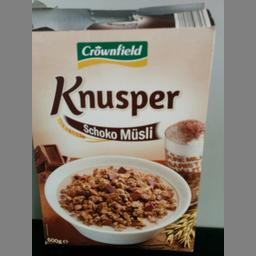cereal: (31, 28, 217, 252)
